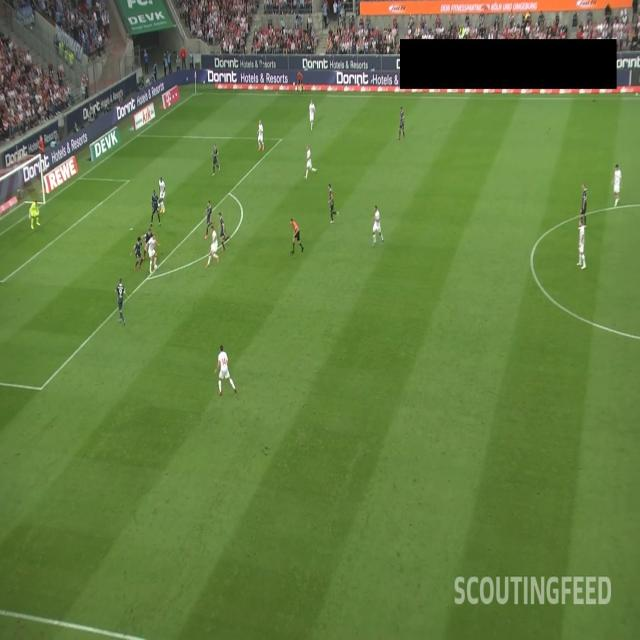ball: (154, 263, 158, 271)
